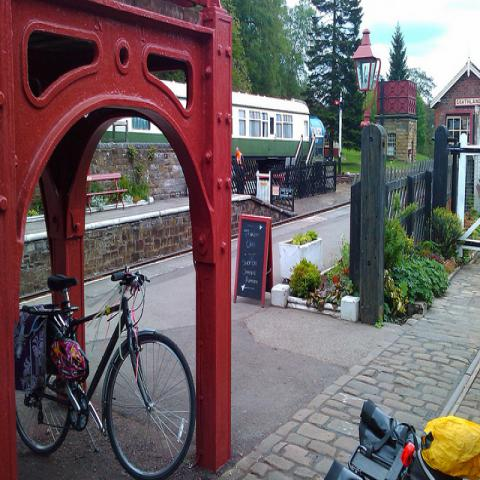motorcycle: (326, 400, 434, 475)
